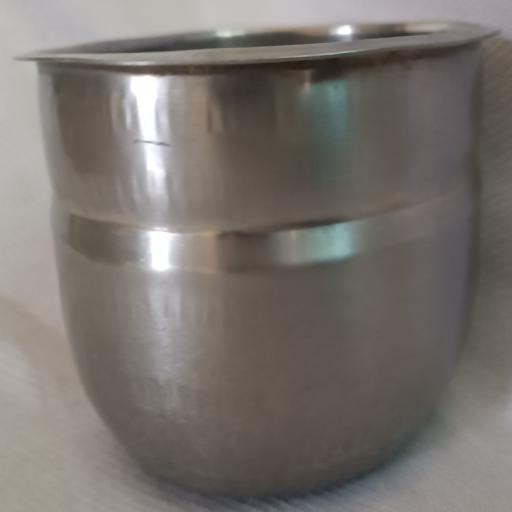vessel: (24, 23, 493, 496)
